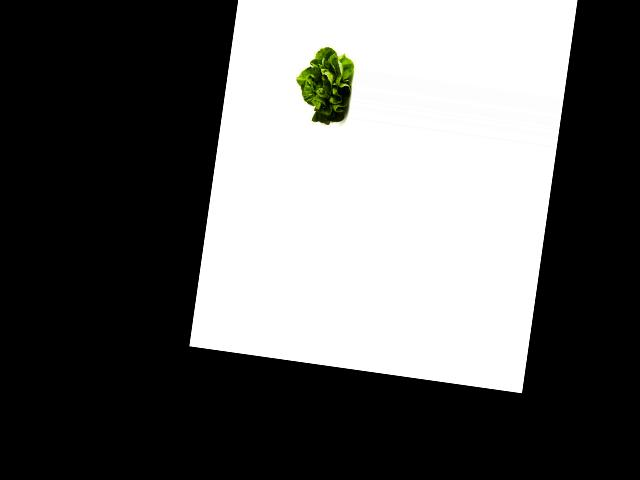lettuce: (291, 41, 357, 128)
